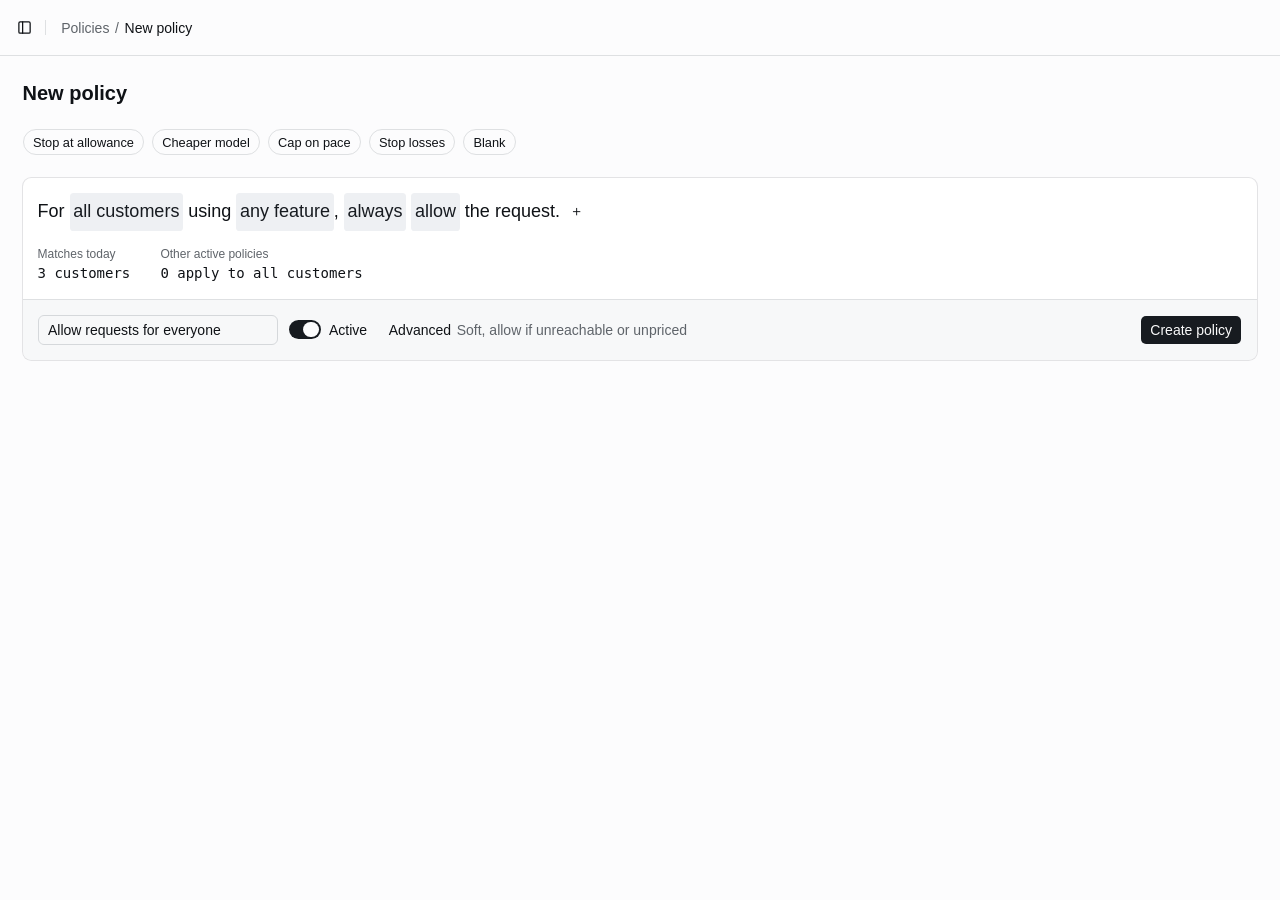
Test case: the Stop at allowance chip saves exactly its document
Click the button "Stop at allowance". click: (83, 142)
box: [22, 129, 144, 155]
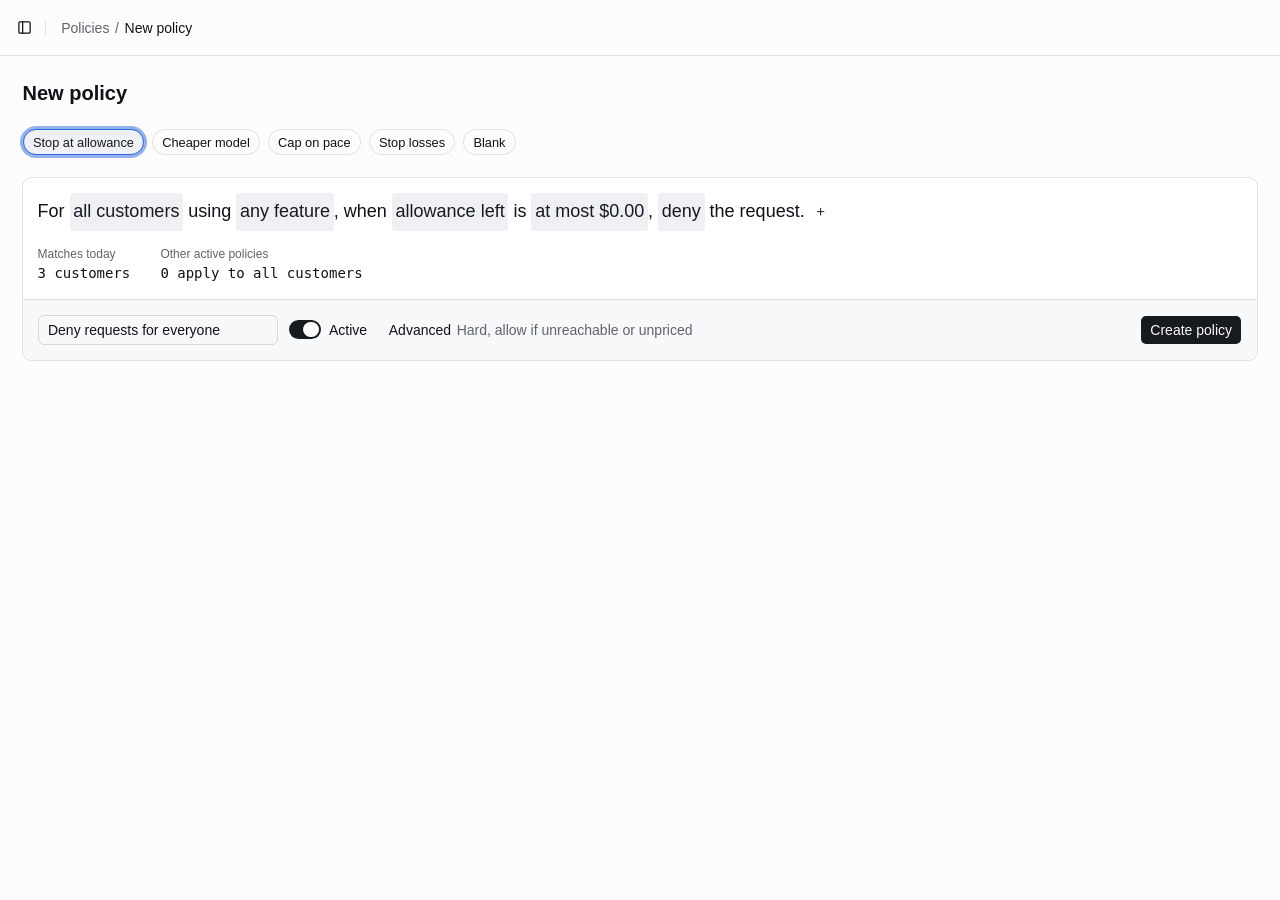
Check: the button "allowance left" is shown, box [392, 193, 508, 231]
Check: the field named "Name" holds "Deny requests for everyone", box [38, 314, 278, 345]
Click the button "Create policy". click: (1191, 330)
box: [1140, 314, 1242, 345]
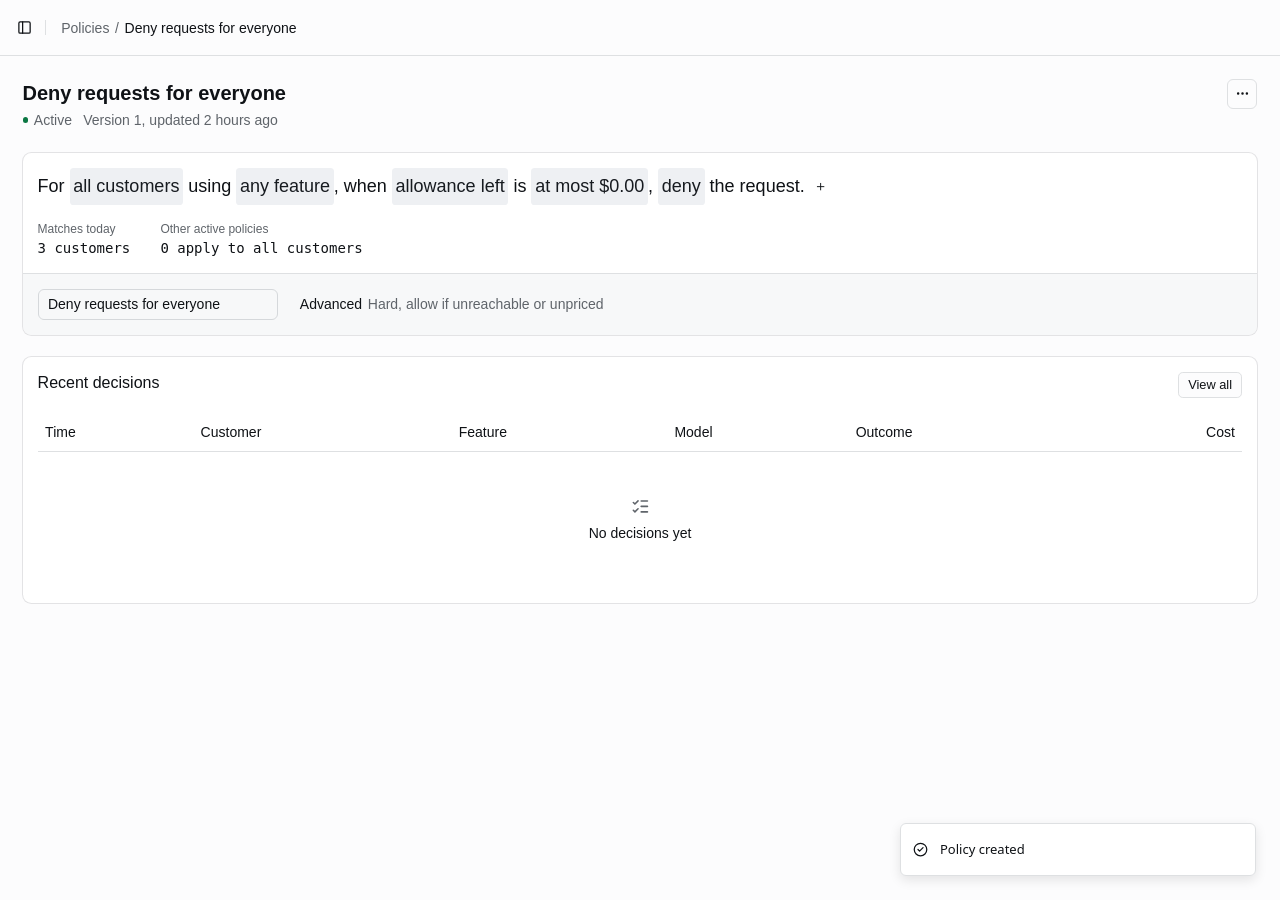
Check: the text "Policy created" is shown, box [940, 840, 1025, 859]
